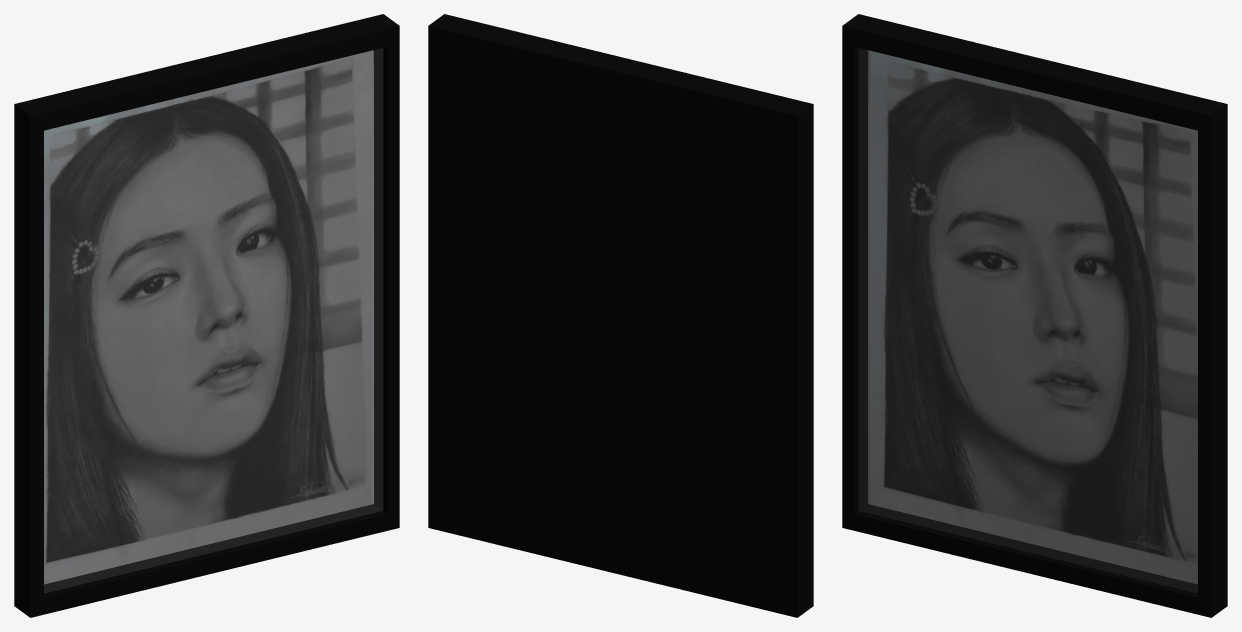
Rendered from Kim Jisoo.glb.
3 views of the same model, side by side, from view 1: azimuth 30°, elevation 25°; view 2: azimuth 150°, elevation 25°; view 3: azimuth 330°, elevation 25° (orthographic).
Visible parts, largest first — view 1: Cube; view 2: Cube; view 3: Cube.
Part boxes in pixels (bbox=[...]): Cube: bbox=[14, 14, 399, 617]; Cube: bbox=[428, 14, 813, 617]; Cube: bbox=[842, 14, 1227, 617].
Size of the model in its own units: 0.508 by 0.66 by 0.04.
3 materials, 1 textured.
